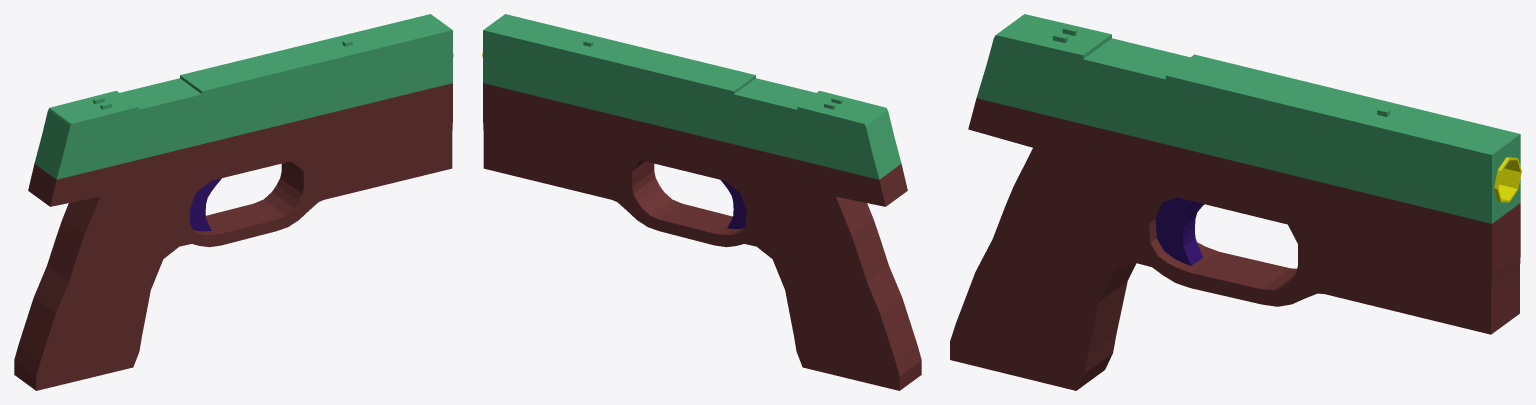
Rendered from pistola chida.fbx.
3 renders of one model, left to right at view 1: azimuth 30°, elevation 25°; view 2: azimuth 150°, elevation 25°; view 3: azimuth 330°, elevation 25°, orthographic. The views are drawn at different scales.
Parts seen in each view (by area): view 1: cuerpo, recamara, Gatillo; view 2: cuerpo, recamara, Gatillo; view 3: cuerpo, recamara, Gatillo, cañon.
Part boxes in pixels (x1,y1,x2,y2): cuerpo: (14,83,452,390); recamara: (34,14,452,179); Gatillo: (189,178,221,231); cuerpo: (483,83,921,390); recamara: (483,14,901,179); Gatillo: (721,180,746,228); cuerpo: (950,98,1520,390); recamara: (976,14,1520,223); Gatillo: (1155,197,1204,265); cañon: (1494,157,1521,202).
Bounding box in the file's own units: 12.66 × 7.58 × 1.16.
